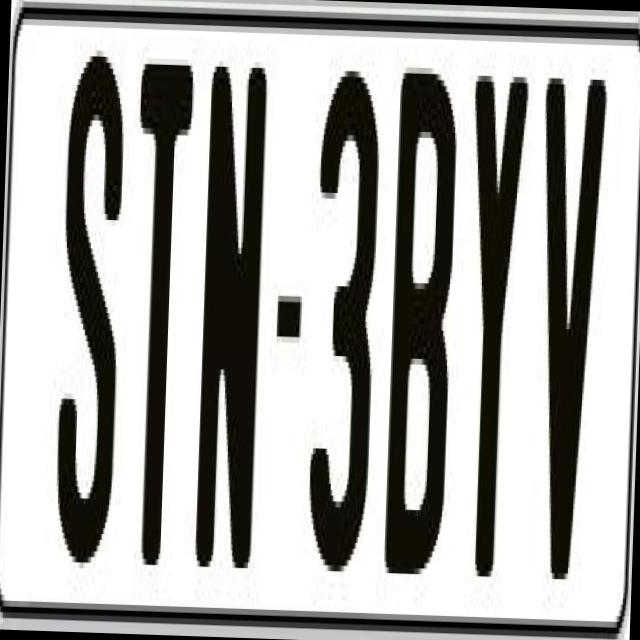3: (301, 64, 377, 584)
B: (384, 72, 459, 575)
N: (190, 55, 270, 562)
S: (53, 38, 128, 552)
T: (119, 51, 193, 584)
V: (525, 77, 612, 603)
Y: (458, 69, 529, 583)
